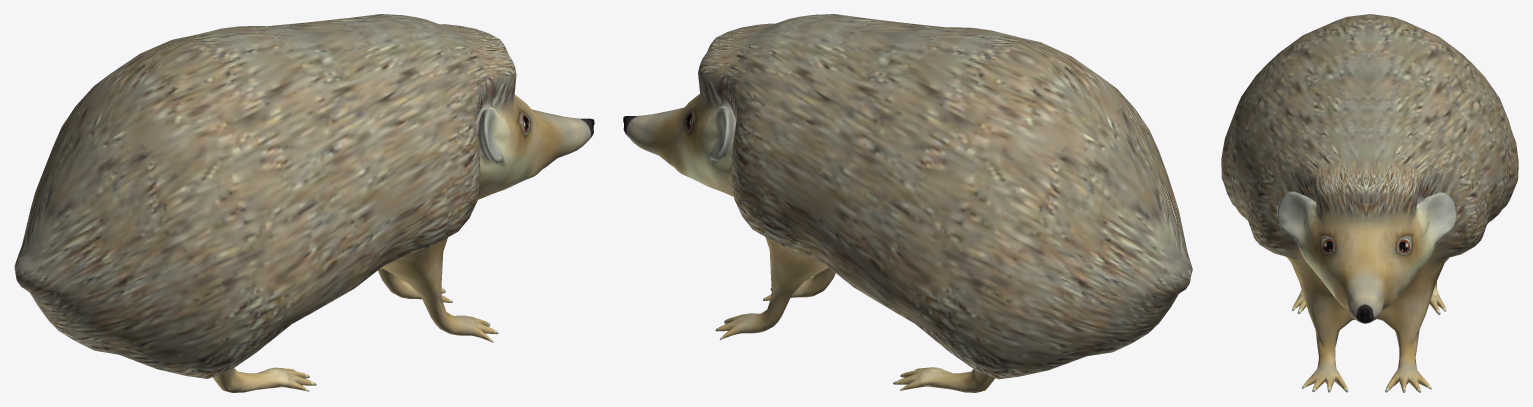
Rendered from Tipratikan.fbx.
3 renders of one model, left to right at view 1: azimuth 30°, elevation 25°; view 2: azimuth 150°, elevation 25°; view 3: azimuth 270°, elevation 25°, orthographic. The views are drawn at different scales.
Visible parts, largest first — view 1: Hadgehog_FBX; view 2: Hadgehog_FBX; view 3: Hadgehog_FBX.
Part boxes in pixels (x1,y1,x2,y2): Hadgehog_FBX: (14, 14, 594, 392); Hadgehog_FBX: (623, 14, 1192, 392); Hadgehog_FBX: (1221, 14, 1518, 392).
Bounding box in the file's own units: 620 × 336 × 338.
1 material, 1 textured.
